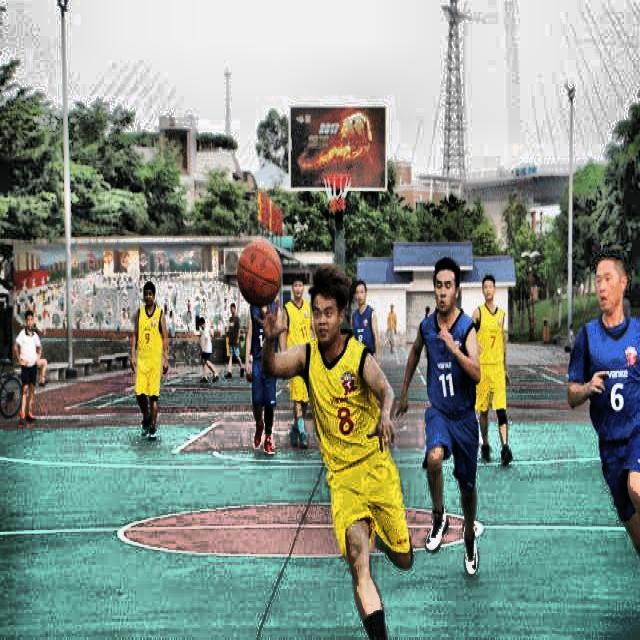rim: (323, 174, 352, 211)
